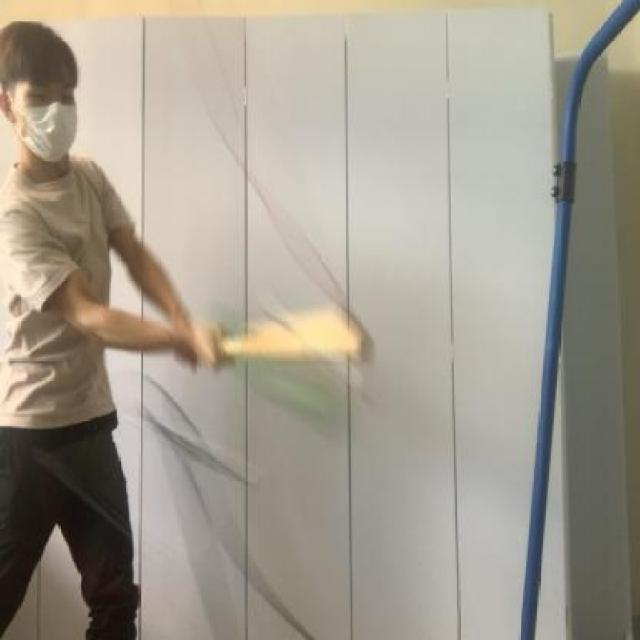baseball: (242, 348, 372, 452)
